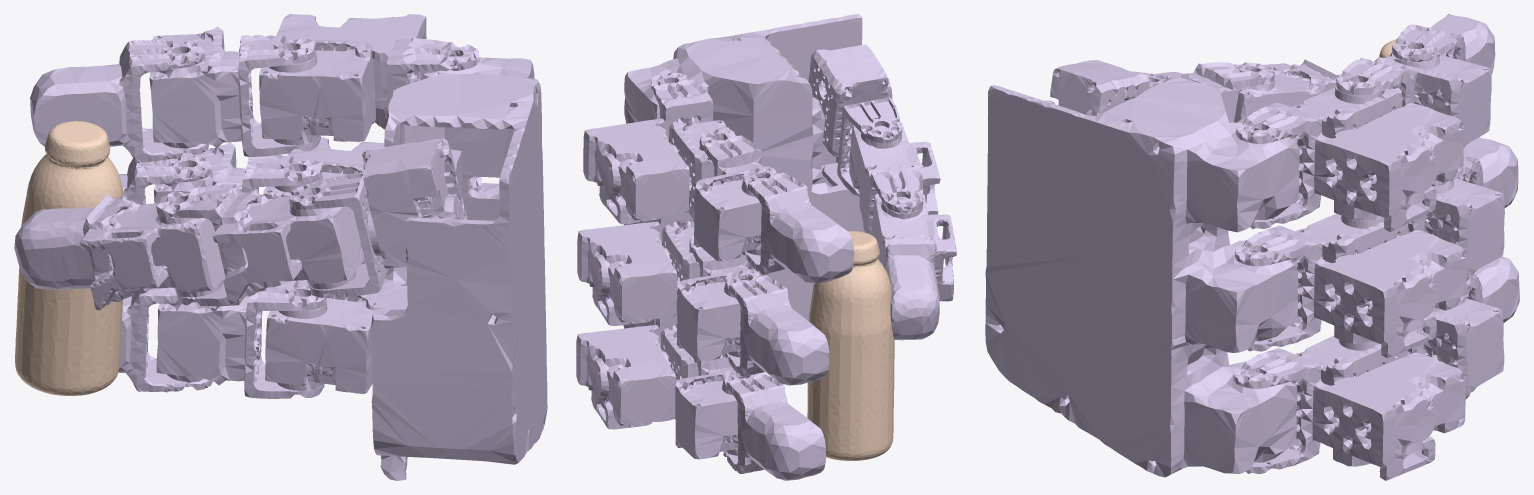
Rendered from 165cff26584947-final.glb.
3 views of the same model, side by side, from view 1: azimuth 30°, elevation 25°; view 2: azimuth 150°, elevation 25°; view 3: azimuth 270°, elevation 25° (orthographic). The views are drawn at different scales.
Parts seen in each view (by area): view 1: LEAP_hand, world; view 2: LEAP_hand, world; view 3: LEAP_hand.
Part boxes in pixels (<box>): LEAP_hand: <box>14,14,547,480</box>; world: <box>15,121,123,395</box>; LEAP_hand: <box>576,14,956,480</box>; world: <box>807,231,894,460</box>; LEAP_hand: <box>985,14,1519,480</box>.
Size of the model in its own units: 0.1692 by 0.1278 by 0.1807.
